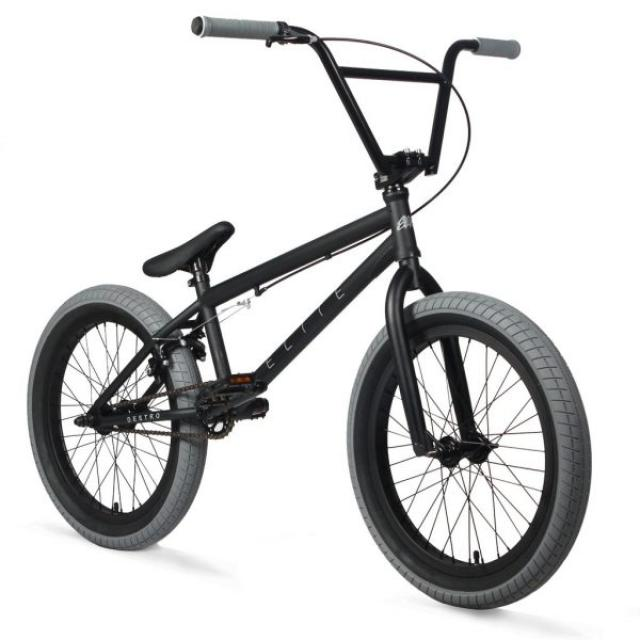bmx-bike: (21, 13, 596, 614)
